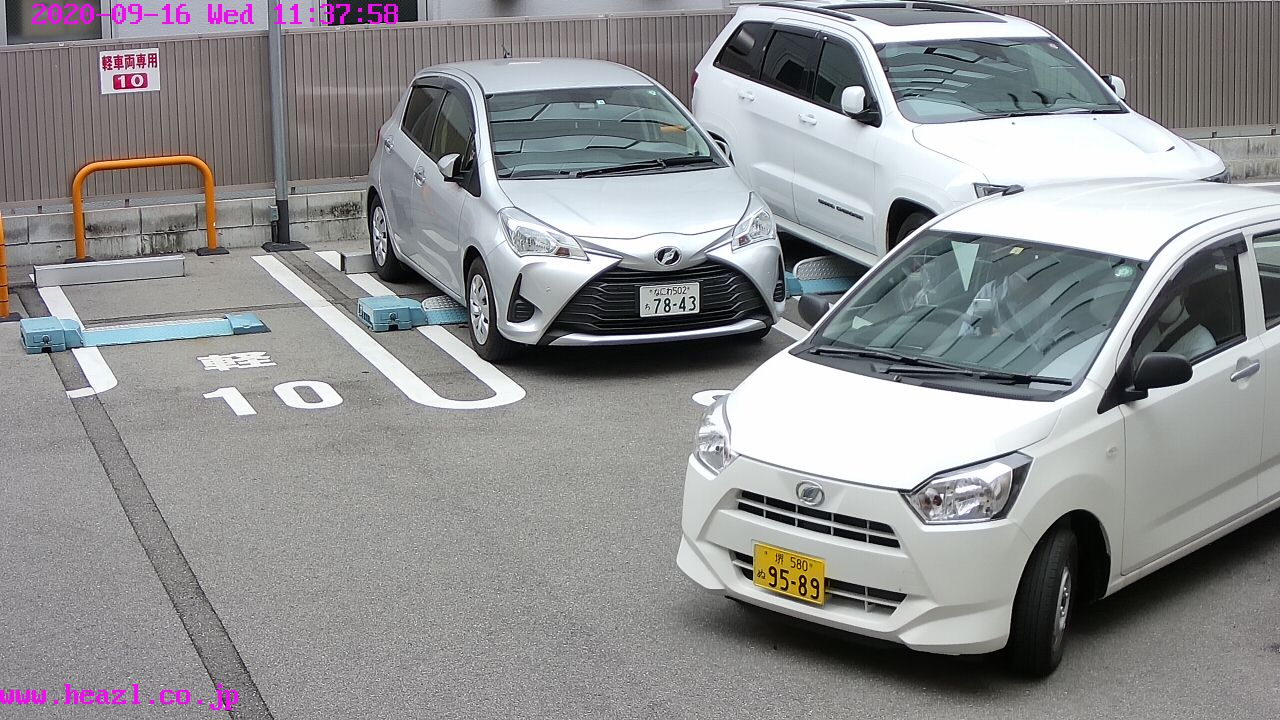number_plate: (754, 543, 825, 601), (640, 286, 701, 315)
